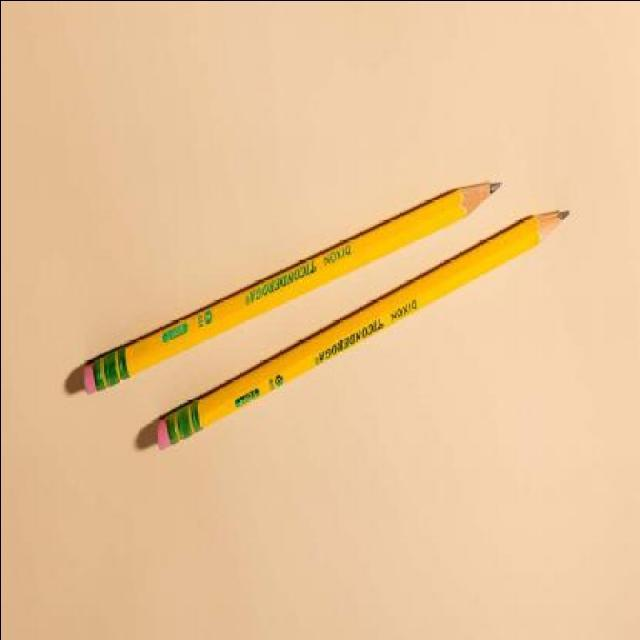Pencil: (452, 156, 506, 228), (521, 194, 579, 257)
